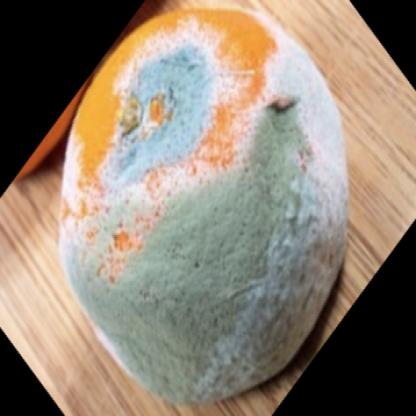rotten: (61, 5, 349, 402)
